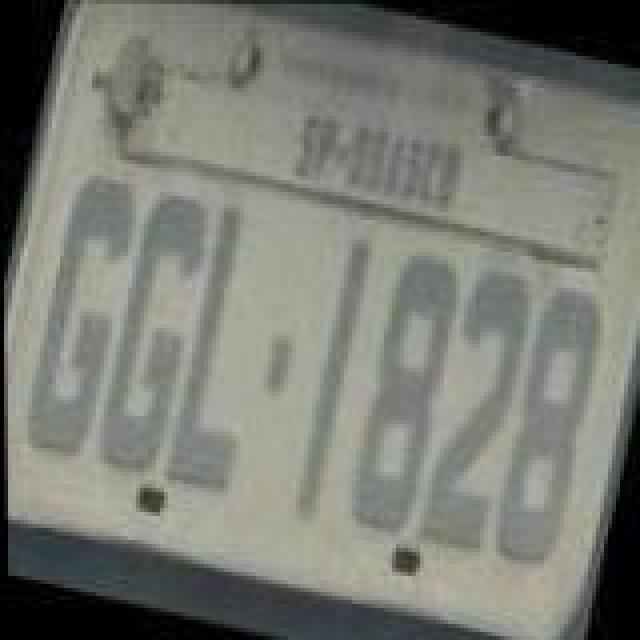1: (286, 232, 378, 524)
2: (408, 258, 544, 554)
8: (336, 248, 472, 540), (480, 282, 616, 574)
G: (88, 184, 224, 480), (16, 166, 152, 458)
L: (158, 202, 290, 498)
